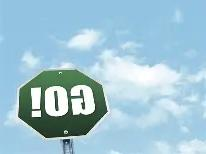Go: (18, 69, 106, 137)
